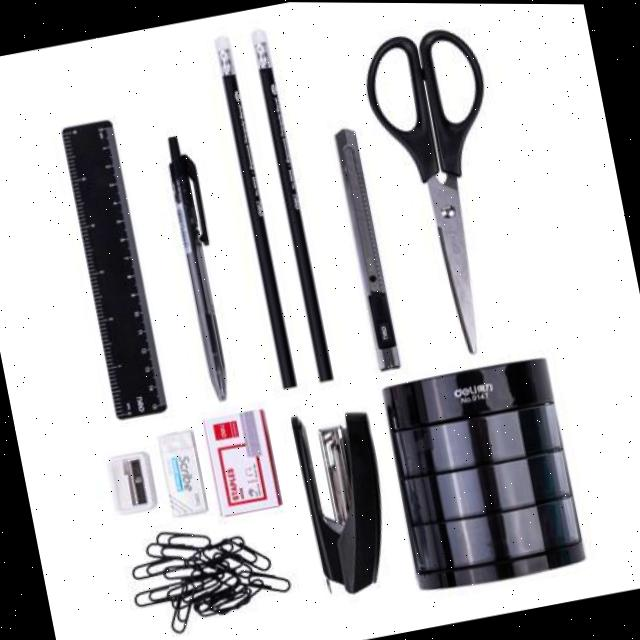pencil: (213, 35, 294, 387), (250, 28, 331, 380)
